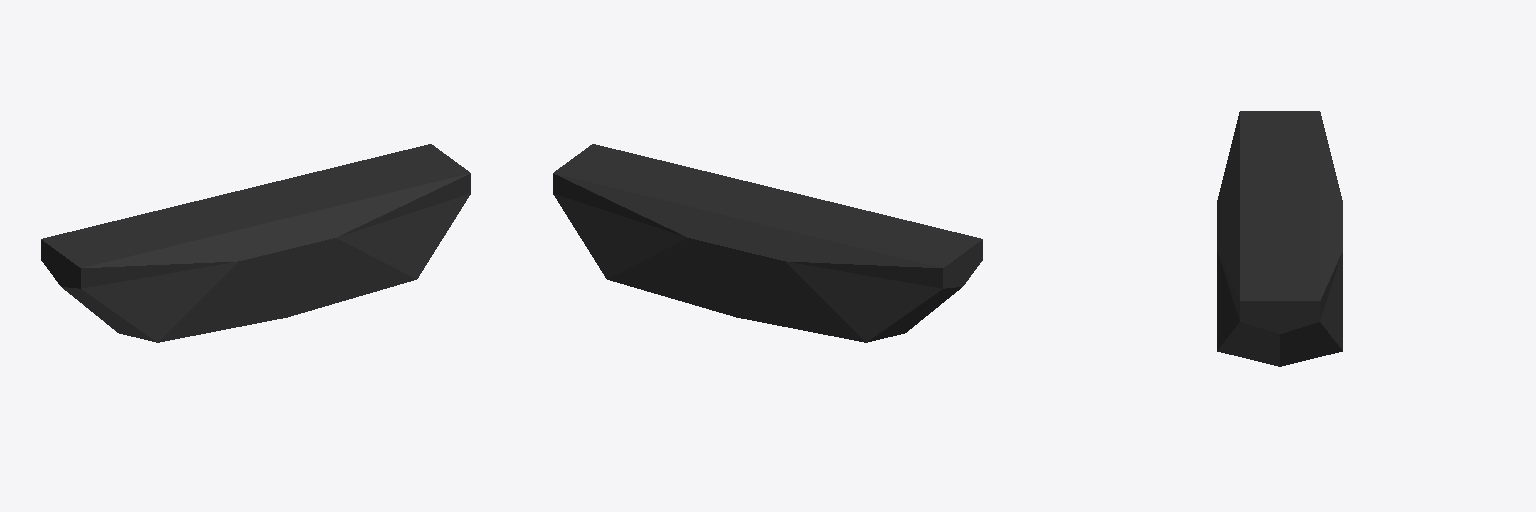
Rendered from trash.obj.
The picture shows the model from 3 angles: view 1: azimuth 30°, elevation 25°; view 2: azimuth 150°, elevation 25°; view 3: azimuth 270°, elevation 25°; orthographic projection.
Parts seen in each view (by area): view 1: Trash; view 2: Trash; view 3: Trash.
Part boxes in pixels (left/top/right/bottom): Trash: left=41, top=144, right=470, bottom=342; Trash: left=553, top=144, right=982, bottom=342; Trash: left=1217, top=111, right=1342, bottom=366.
Size of the model in its own units: 2 by 0.4885 by 0.56.